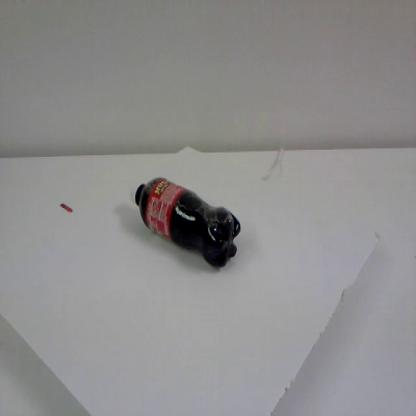bottle: (124, 172, 243, 274)
